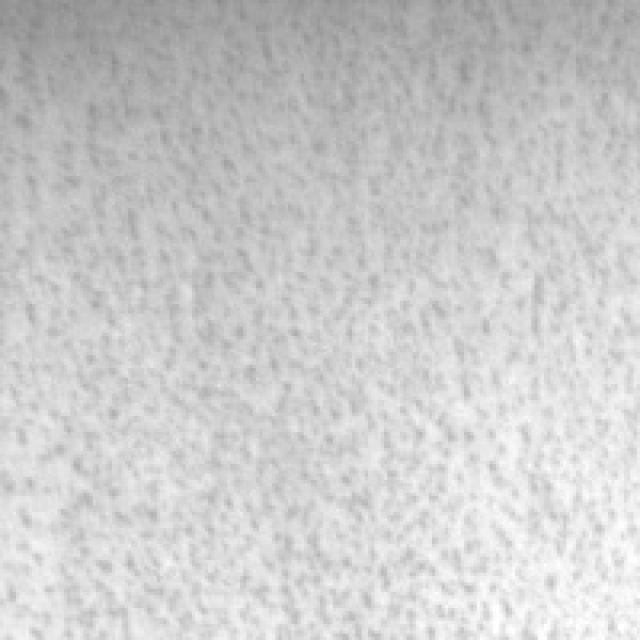pitted_surface: (19, 0, 637, 621)
